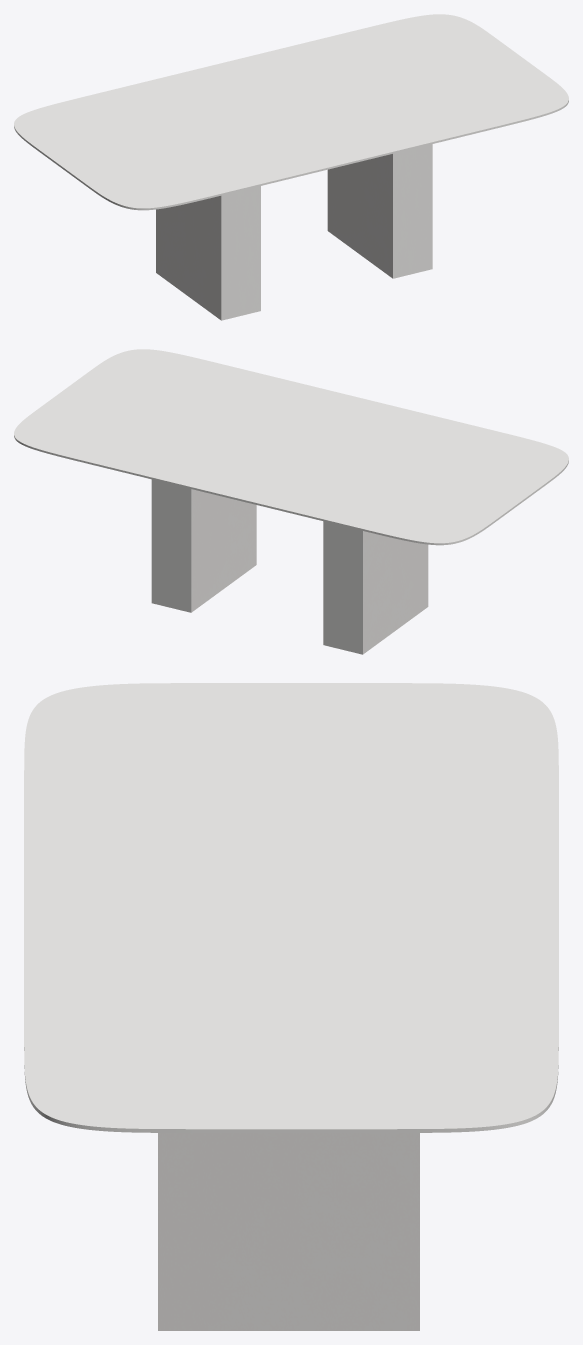
Rendered from purewhite_softrecta_facet_ridge.glb.
3 views of the same model, one above another, from view 1: azimuth 30°, elevation 25°; view 2: azimuth 150°, elevation 25°; view 3: azimuth 270°, elevation 25° (orthographic). The views are drawn at different scales.
Visible parts, largest first — view 1: facet_softrecta, ridge; view 2: facet_softrecta, ridge; view 3: facet_softrecta, ridge.
Boxes of the visible parts, left/top/right/bottom form: facet_softrecta: left=14, top=14, right=568, bottom=210; ridge: left=156, top=144, right=432, bottom=320; facet_softrecta: left=14, top=349, right=568, bottom=545; ridge: left=151, top=479, right=428, bottom=654; facet_softrecta: left=24, top=683, right=558, bottom=1132; ridge: left=158, top=1133, right=419, bottom=1330.
Size of the model in its own units: 7.5 by 2.5 by 3.8.
1 material, 1 textured.
